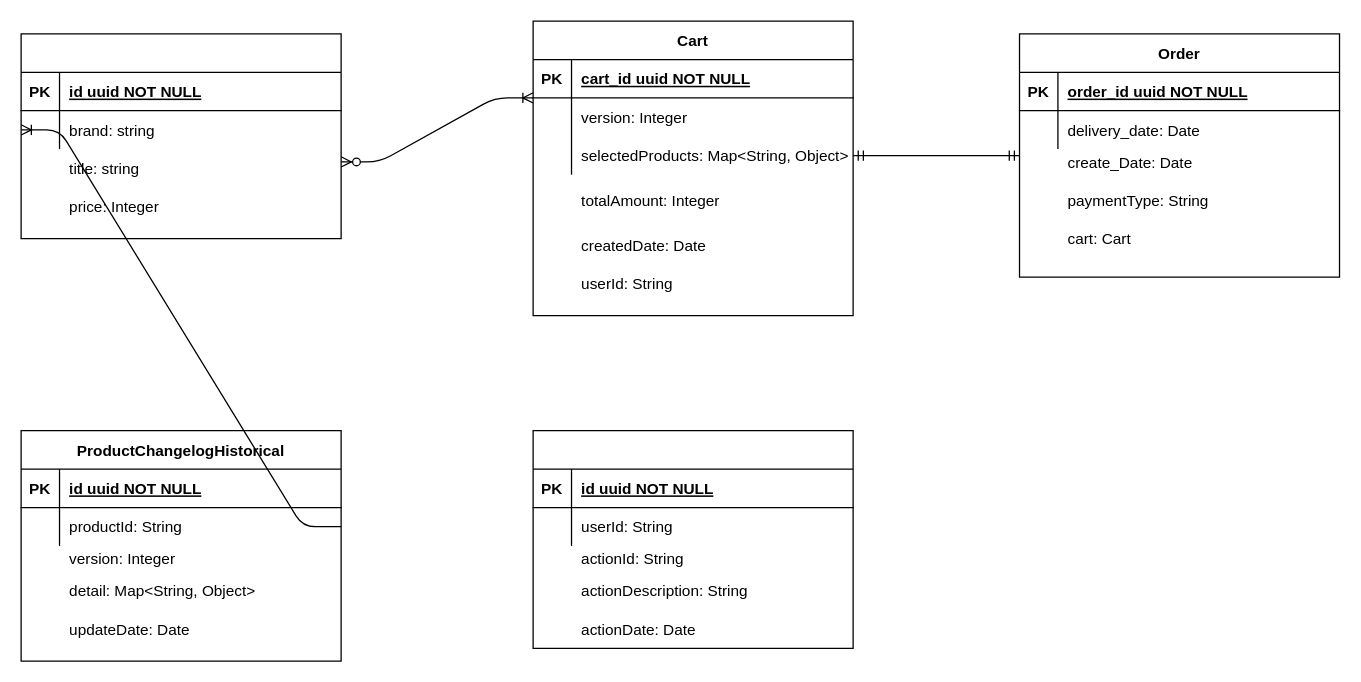
Some shapes in this 1361 by 682 pixel diagram are drawn without their labels. The shapes that lost their labels are listed below. From the top down, each one's box as (x1, y1, x2, y2) in pixels, then its label:
(20, 33, 341, 239): Product
(532, 429, 853, 648): UserActivitiesHistorical
